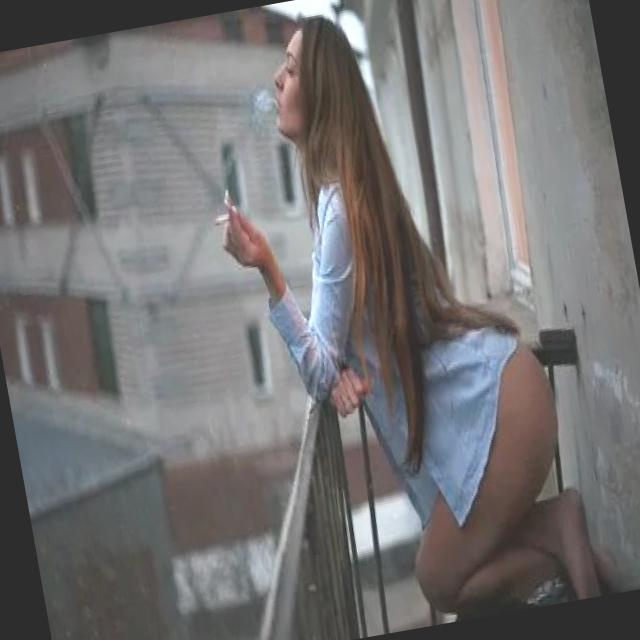smoke: (209, 207, 240, 233)
